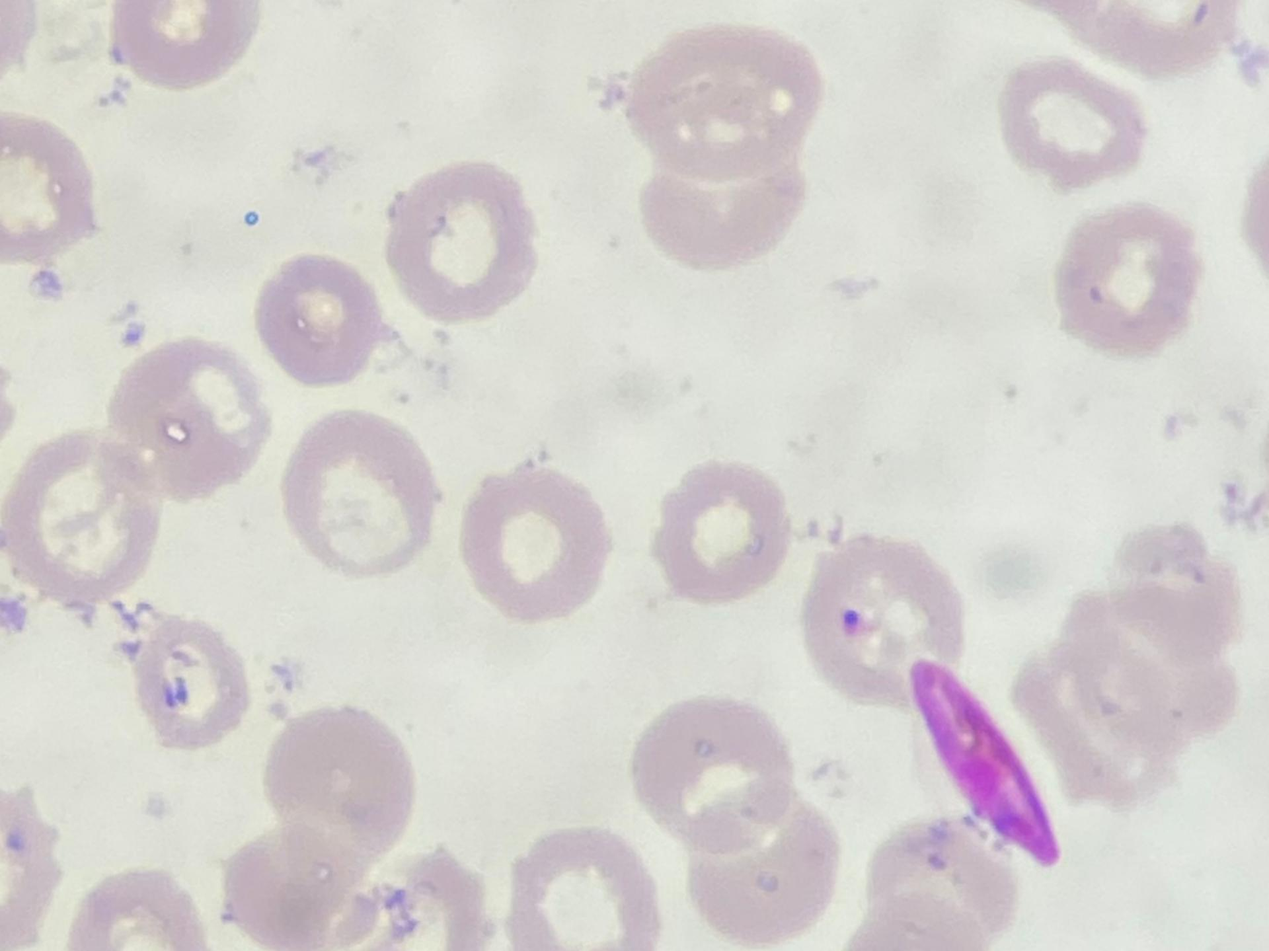Infected: (905, 658, 1068, 870)
Uninfected: (621, 25, 824, 177), (0, 430, 165, 598), (801, 537, 965, 705), (631, 694, 797, 854), (283, 408, 436, 575), (104, 337, 263, 496), (387, 157, 538, 320), (684, 788, 841, 942), (458, 473, 611, 621), (1051, 205, 1199, 354), (266, 707, 411, 857), (649, 463, 794, 607), (636, 147, 810, 267), (998, 58, 1150, 187), (226, 818, 369, 951), (509, 828, 662, 951), (256, 255, 383, 386), (874, 828, 1014, 944), (135, 622, 255, 756), (0, 113, 93, 259), (107, 0, 259, 88), (66, 871, 206, 951)
